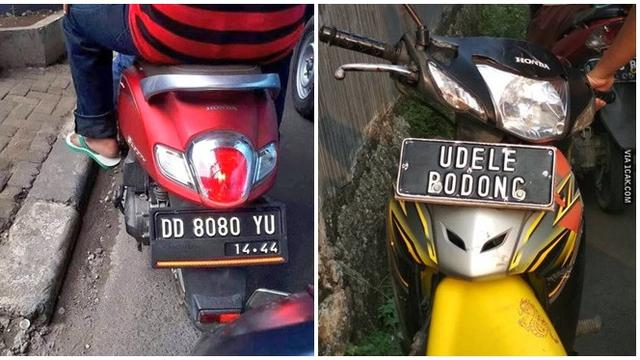plat nomor: (397, 140, 552, 207), (152, 206, 286, 264)
